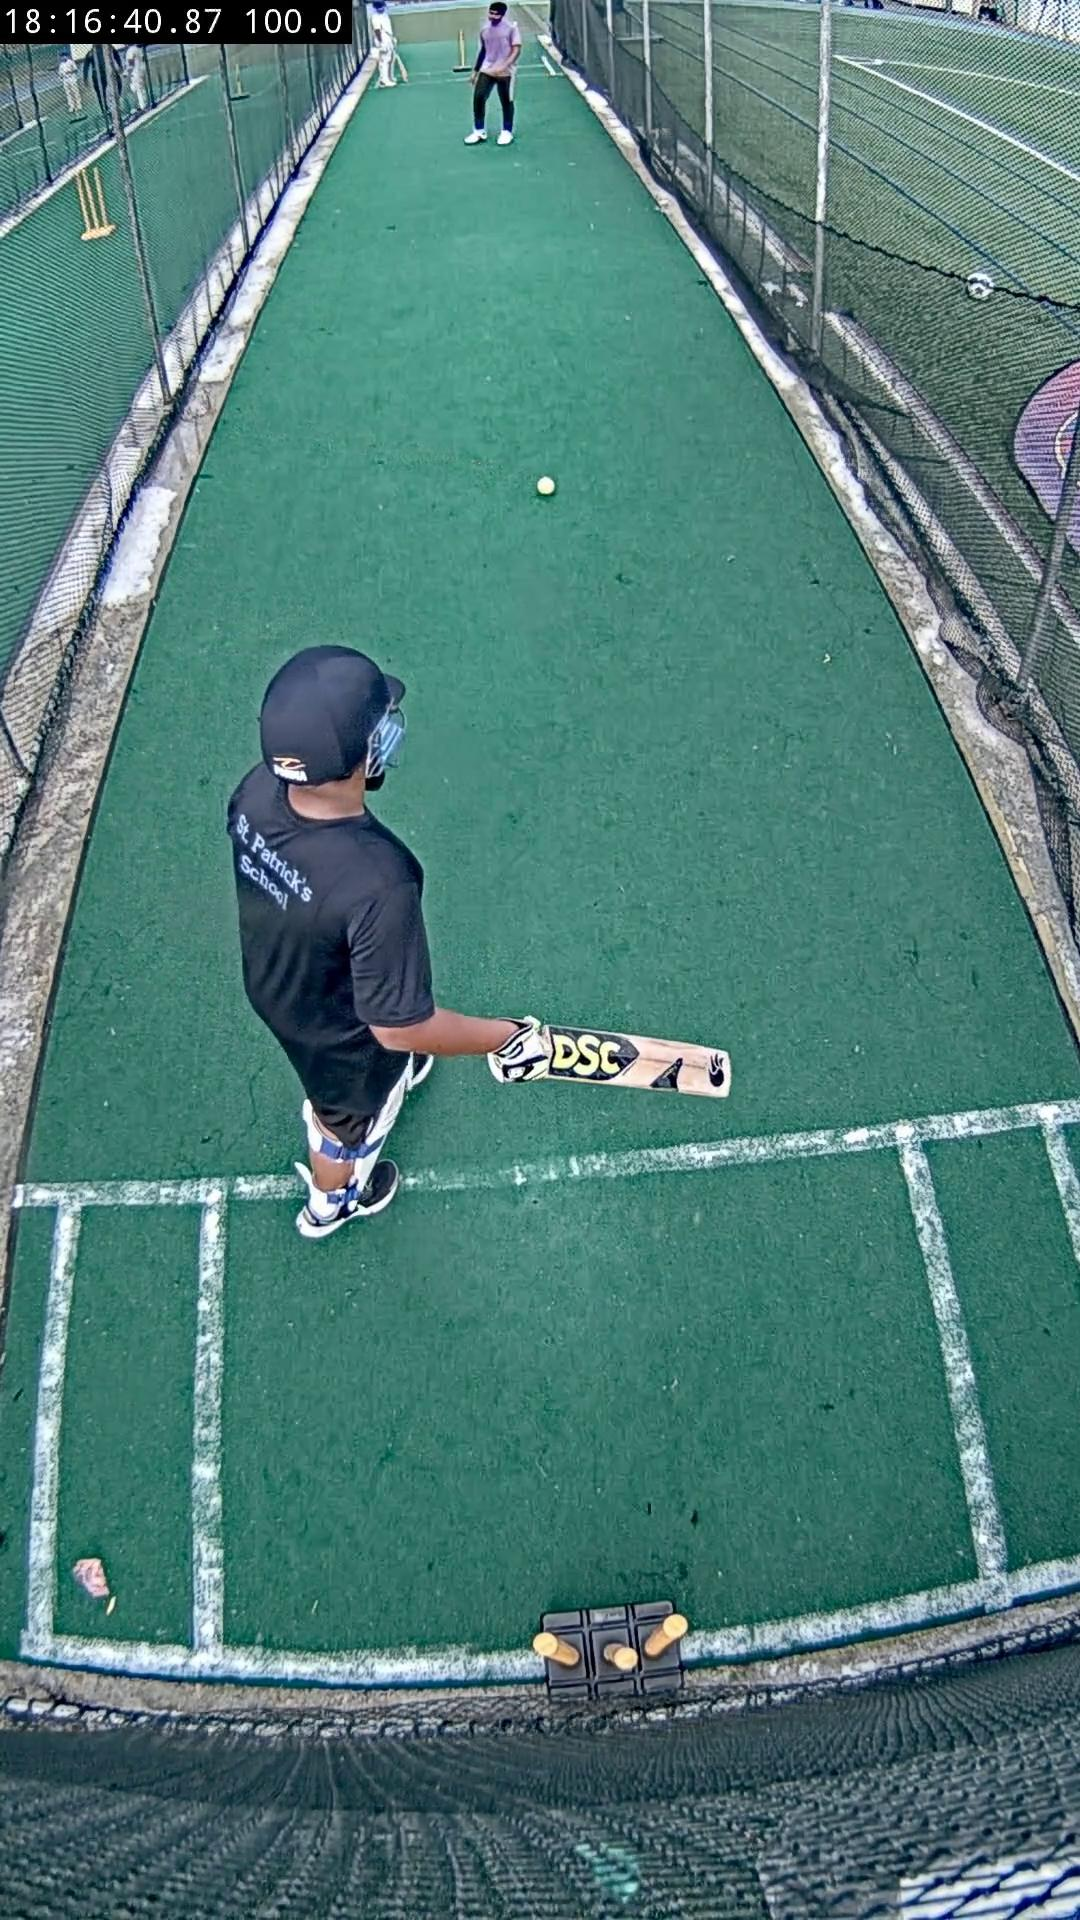ball: (537, 476, 555, 495)
bat: (543, 1027, 732, 1098)
gloves: (488, 1017, 551, 1084)
helmet: (258, 645, 405, 783)
stumps: (533, 1601, 686, 1702)
